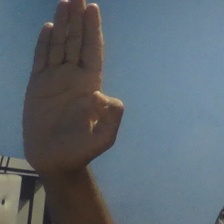B: (18, 1, 127, 177)
